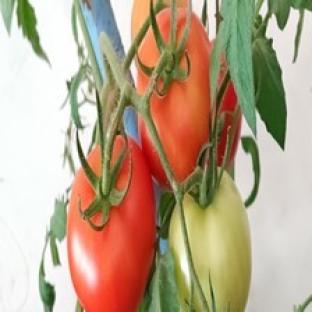Tomato: (67, 138, 155, 311), (151, 13, 211, 181), (183, 172, 250, 311), (218, 80, 242, 171)
